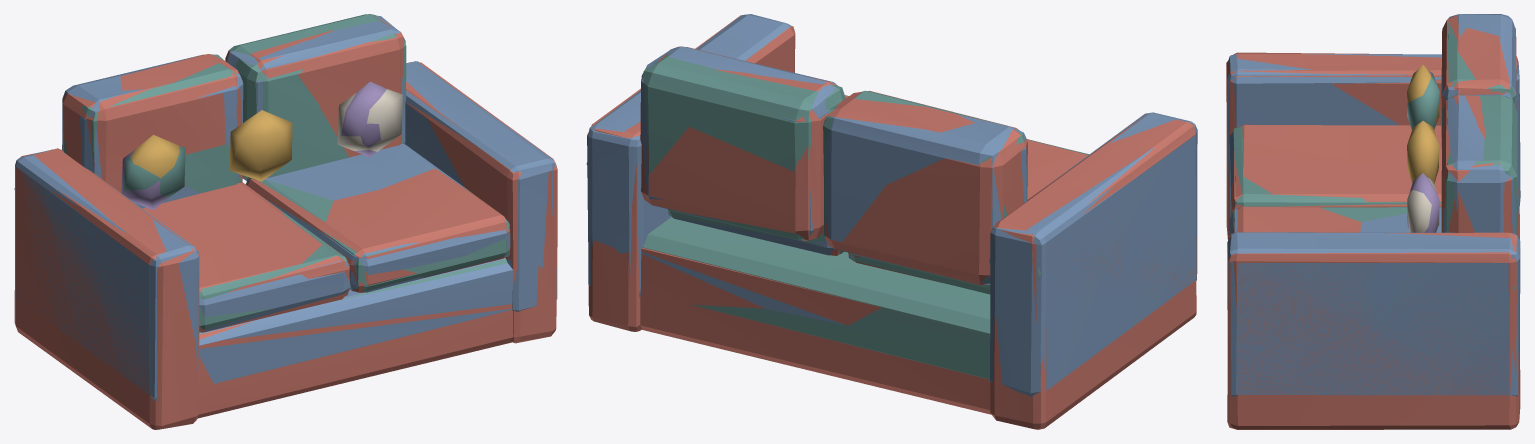
The model's file is sofa.glb.
3 renders of one model, left to right at view 1: azimuth 30°, elevation 25°; view 2: azimuth 150°, elevation 25°; view 3: azimuth 270°, elevation 25°, orthographic. The views are drawn at different scales.
Visible parts, largest first — view 1: sofa.v2.mesh, sofa.v1.mesh, sofa.v0.mesh; view 2: sofa.v2.mesh, sofa.v1.mesh, sofa.v0.mesh; view 3: sofa.v1.mesh, sofa.v2.mesh, sofa.v0.mesh.
Part boxes in pixels (left/top/right/bottom): sofa.v2.mesh: left=14, top=17, right=557, bottom=429; sofa.v1.mesh: left=15, top=15, right=557, bottom=401; sofa.v0.mesh: left=14, top=14, right=509, bottom=333; sofa.v2.mesh: left=587, top=15, right=1196, bottom=429; sofa.v1.mesh: left=588, top=14, right=1197, bottom=396; sofa.v0.mesh: left=586, top=47, right=1088, bottom=379; sofa.v1.mesh: left=1227, top=14, right=1520, bottom=396; sofa.v2.mesh: left=1226, top=15, right=1520, bottom=429; sofa.v0.mesh: left=1233, top=21, right=1517, bottom=289.
Bounding box in the file's own units: 1.5 × 0.8435 × 0.9171.
